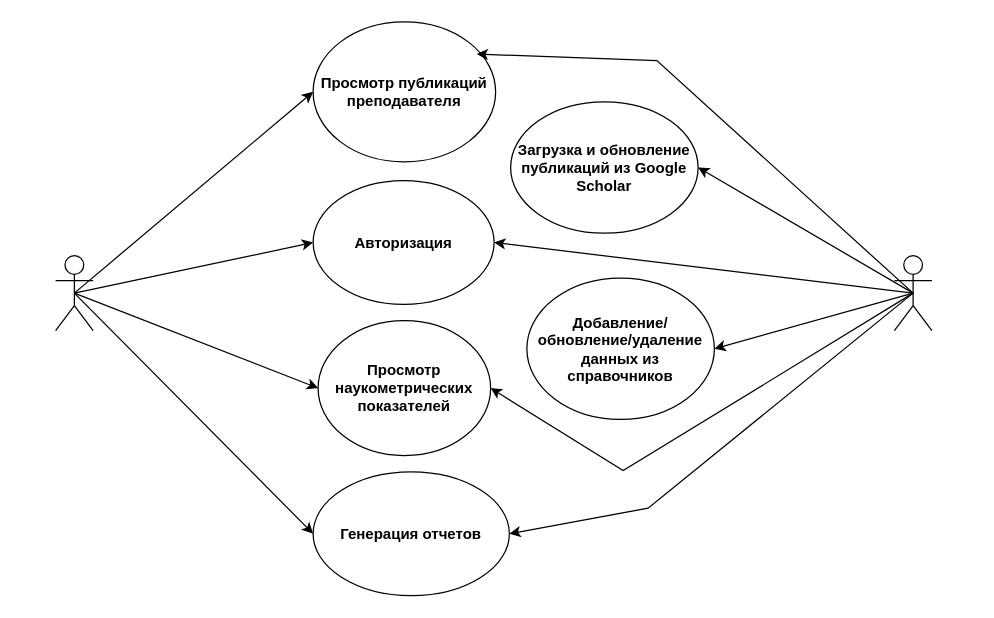
Image size: 994x618. Some labels were removed from this diagram. Each missing label, with the centre of its shape:
"Администратор" goes at [912,292].
"Пользователь" goes at [73,292].
